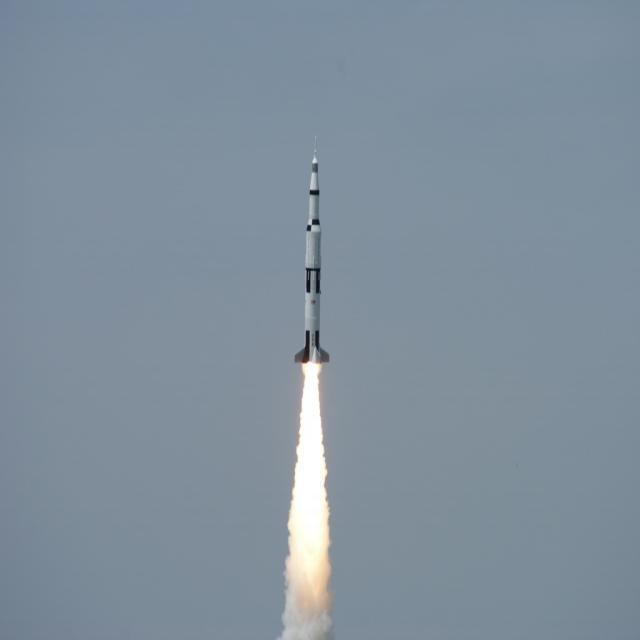missile: (291, 150, 330, 373)
